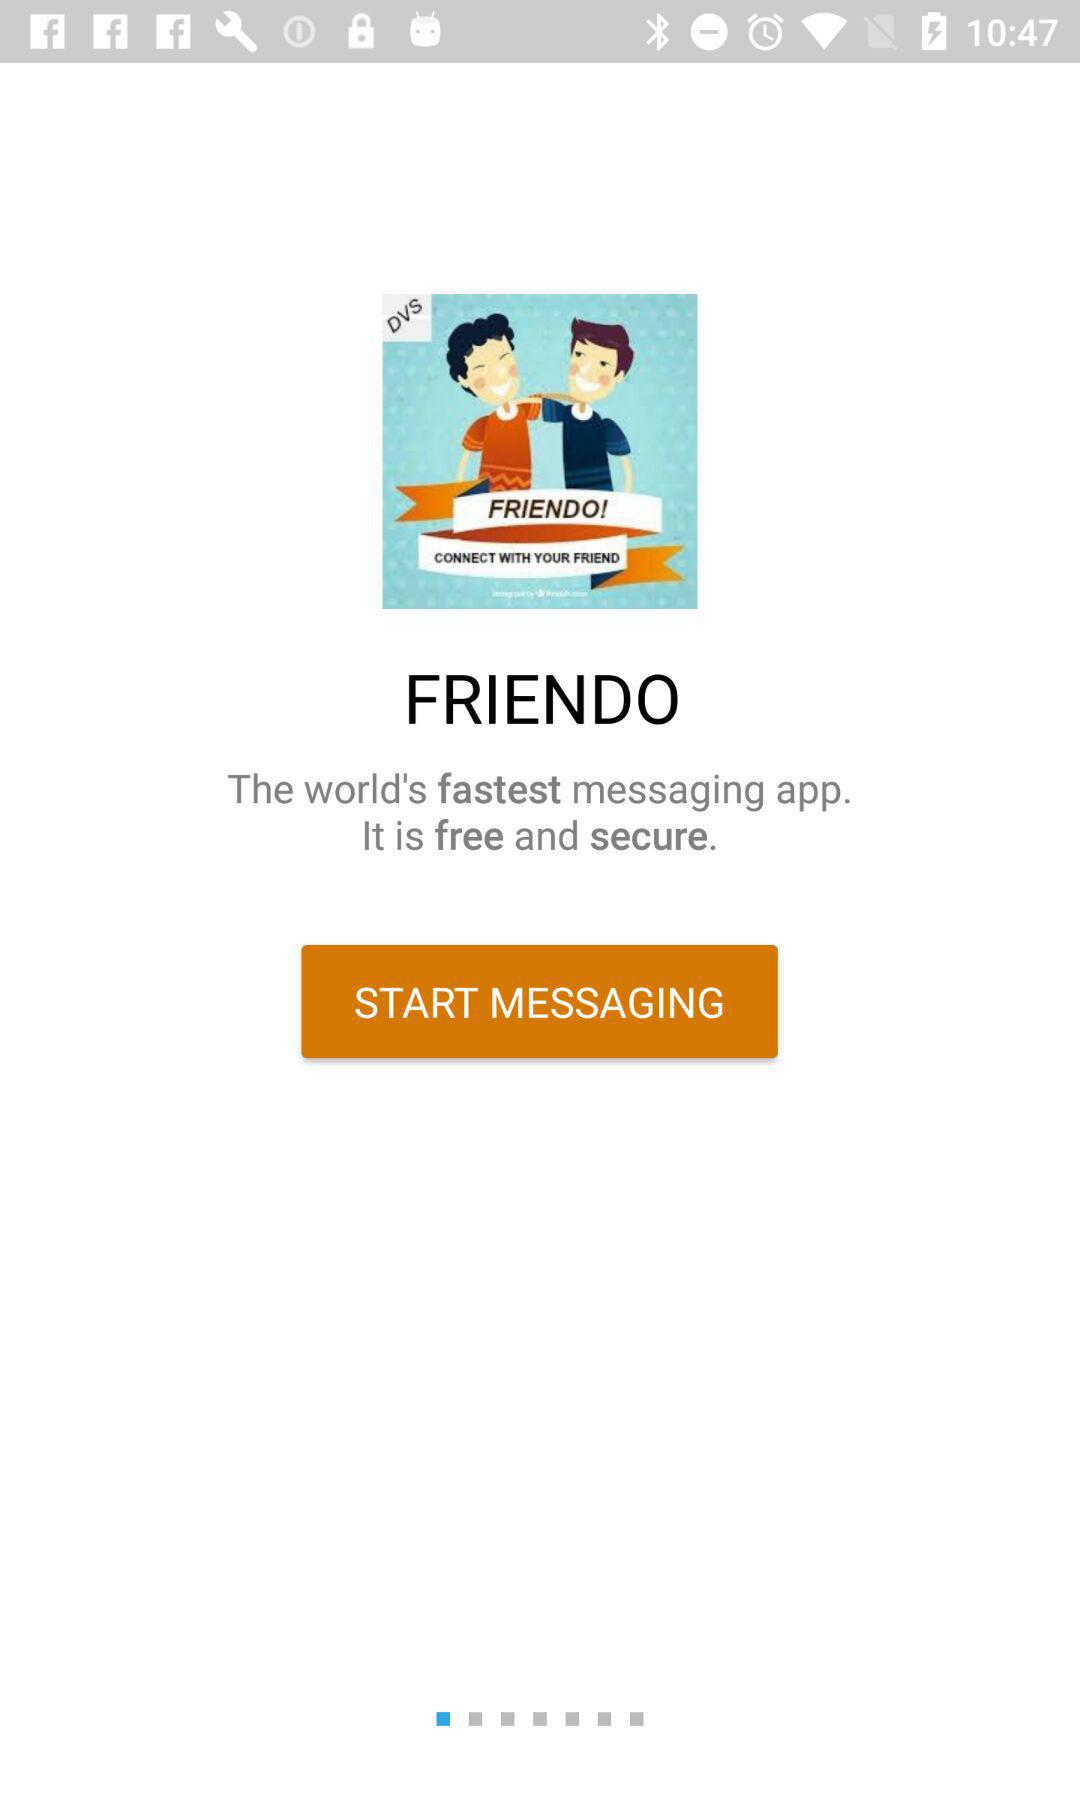Image: (382, 293, 698, 610)
PageIndicator: (436, 1711, 646, 1727)
Text: (228, 771, 851, 853), (407, 674, 679, 727)
TextButton: (301, 944, 779, 1060)
UpperTaskBar: (1, 1, 1080, 64)
